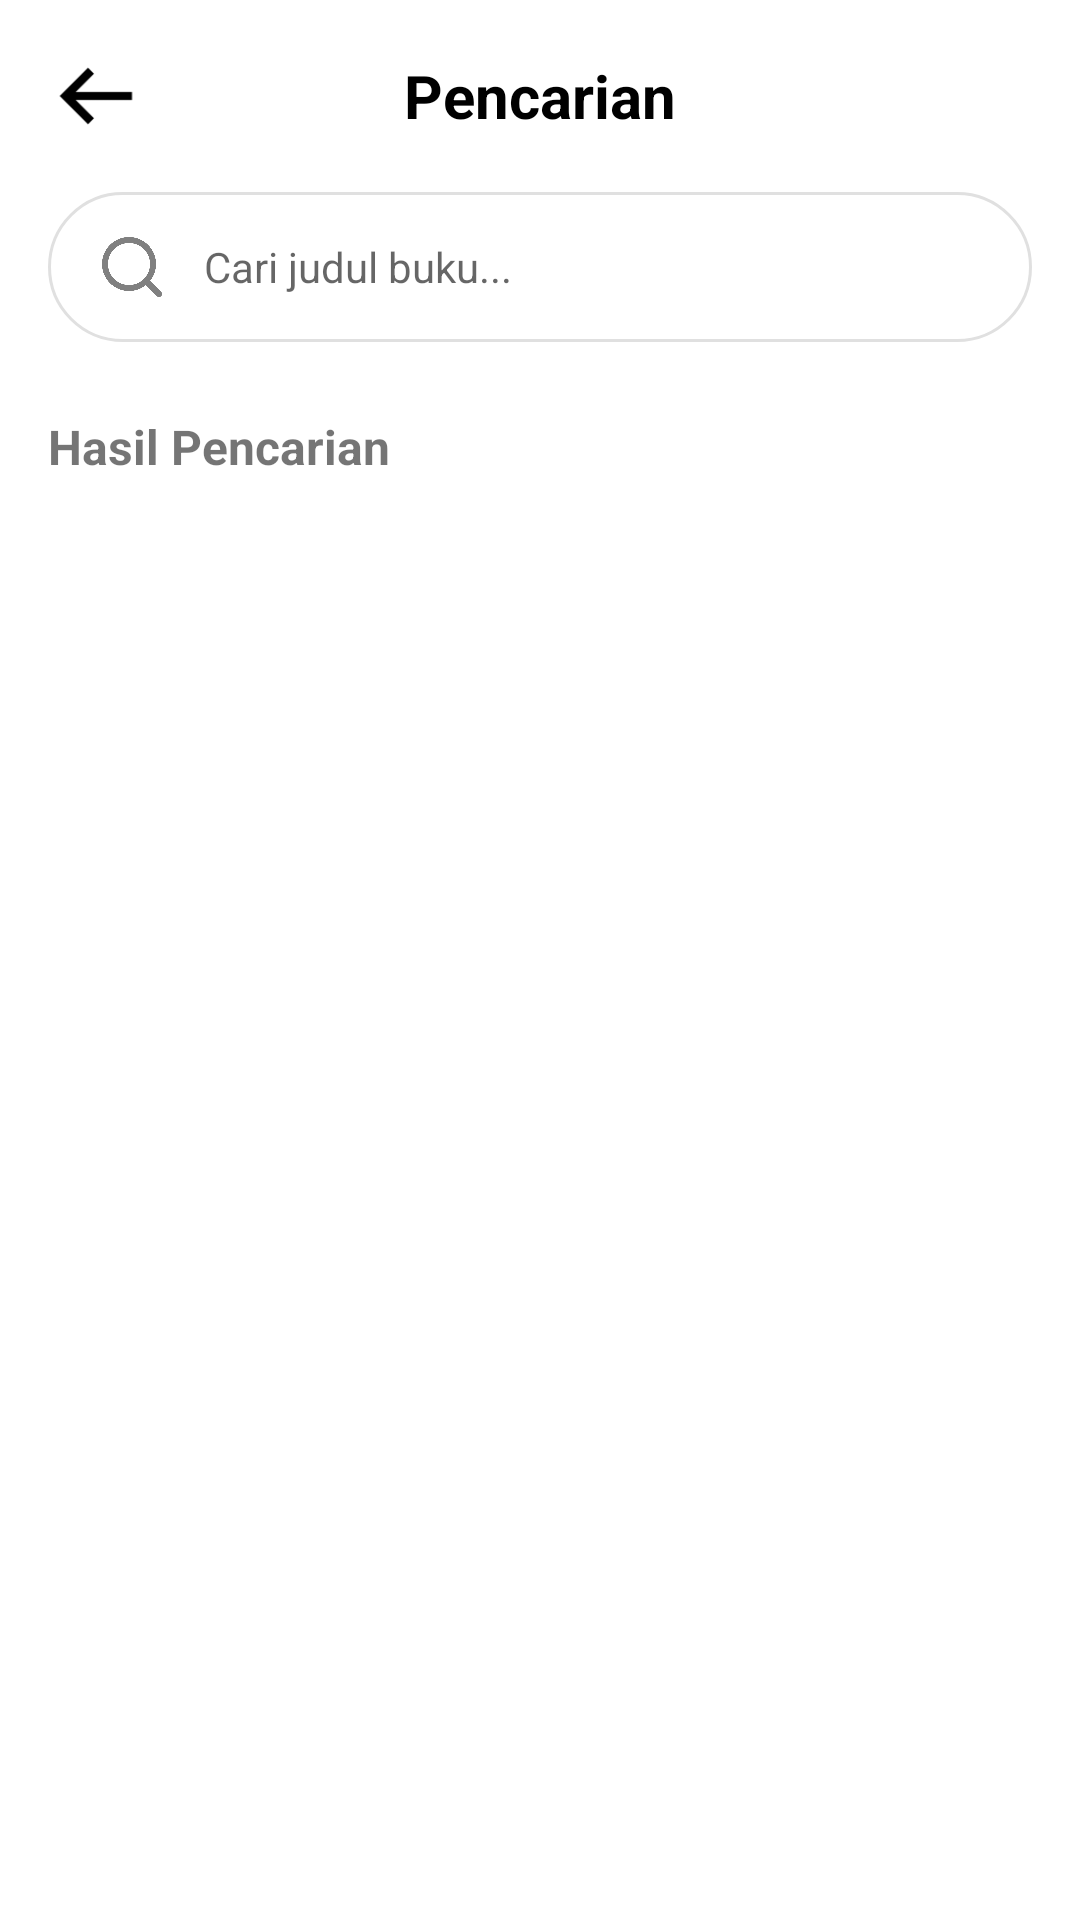

Screen size 1080 x 1920. Icon name, then its center in pixels as (x=x, y=y):
back: (x=96, y=96)
search: (x=132, y=267)
